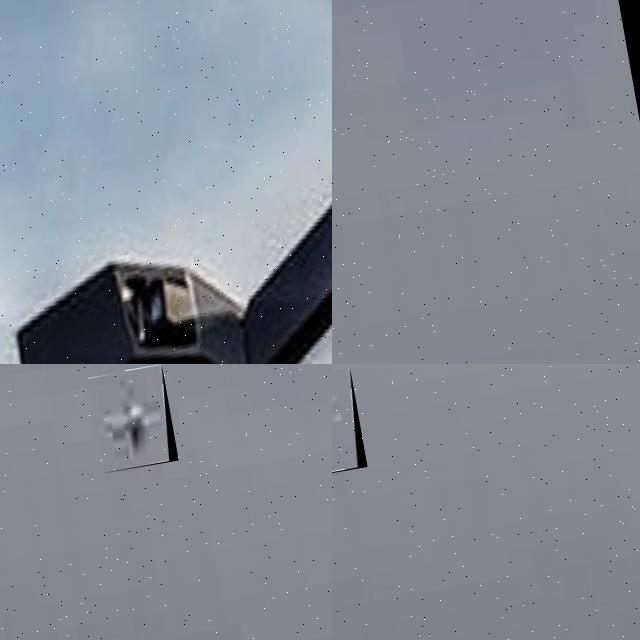drone: (0, 0, 332, 364), (88, 364, 178, 473), (332, 367, 367, 480)
